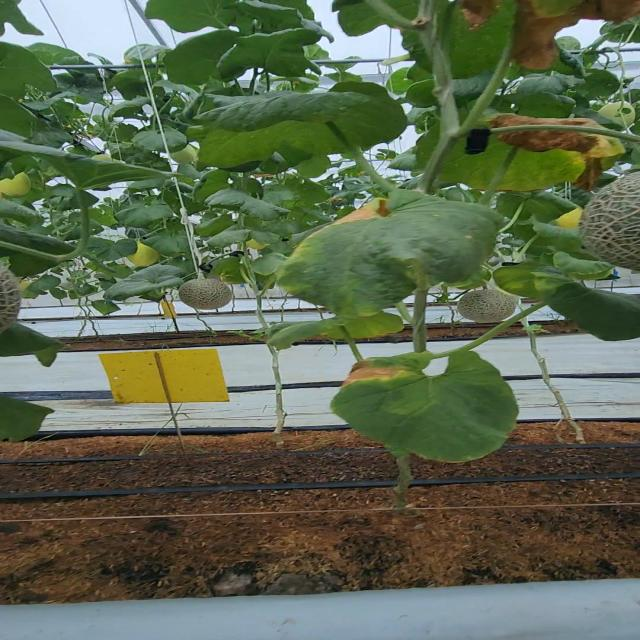Melon: (580, 170, 640, 275), (458, 287, 518, 325), (178, 274, 235, 312)
